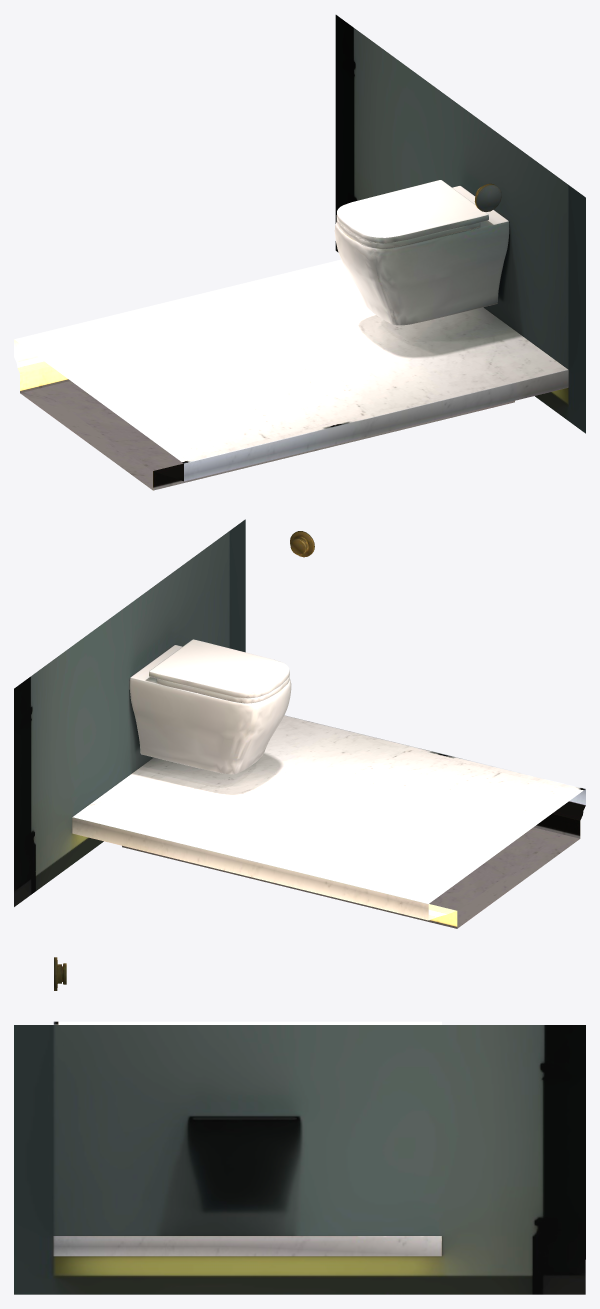
Rendered from Element_Plus_WC_01.glb.
The picture shows the model from 3 angles, top to bottom: view 1: azimuth 30°, elevation 25°; view 2: azimuth 150°, elevation 25°; view 3: azimuth 270°, elevation 25°; orthographic projection. The views are drawn at different scales.
Parts seen in each view (by area): view 1: Element_Plus_WC_01; view 2: Element_Plus_WC_01; view 3: Element_Plus_WC_01.
Boxes of the visible parts, x1,y1,x2,y2 form: Element_Plus_WC_01: (14,15,585,490); Element_Plus_WC_01: (14,519,585,928); Element_Plus_WC_01: (14,957,585,1294).
Size of the model in its own units: 1.66 by 1.02 by 1.81.
1 material, 1 textured.
